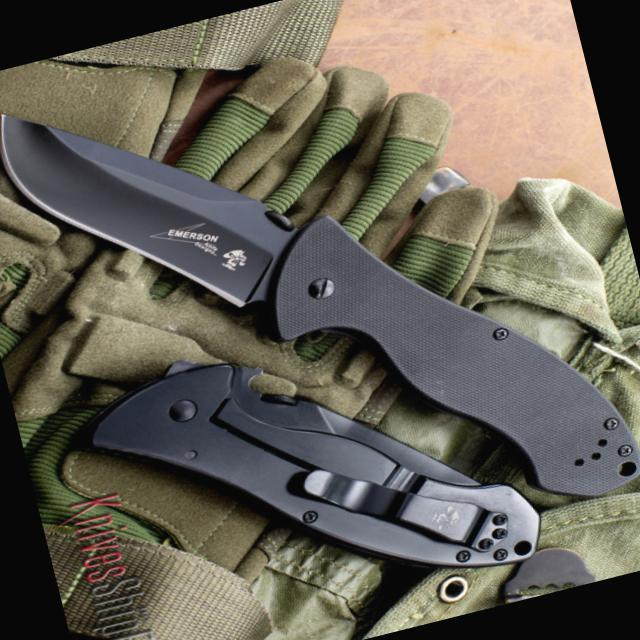knife: (0, 35, 339, 363)
